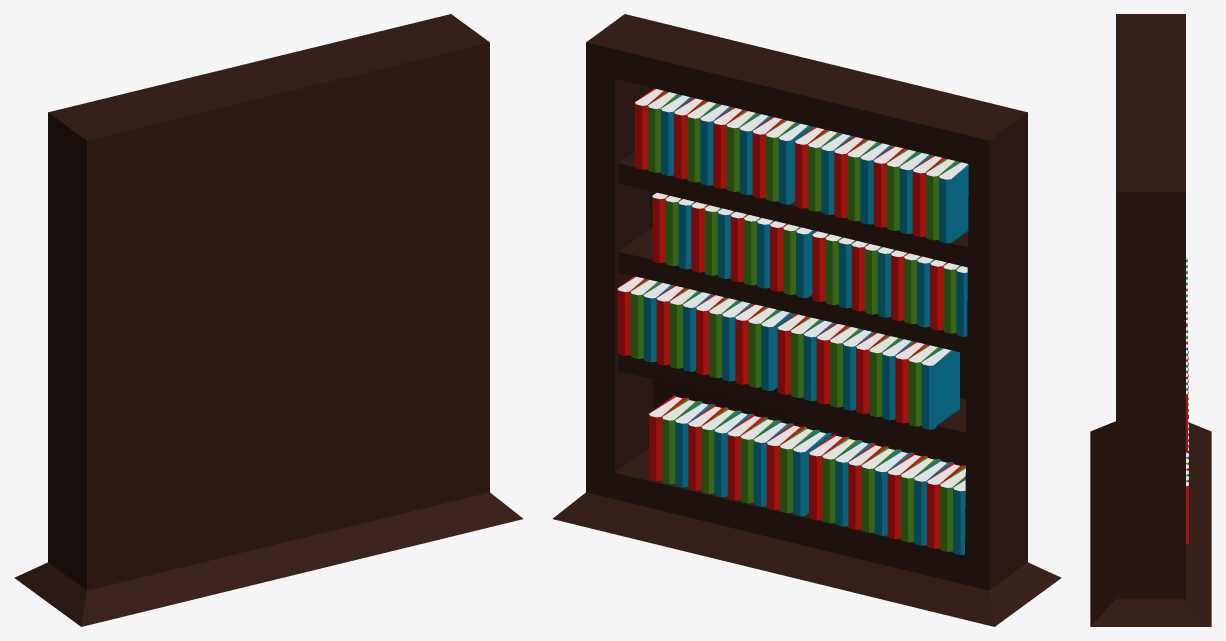
File: bookshelf.obj
3 renders of one model, left to right at view 1: azimuth 30°, elevation 25°; view 2: azimuth 150°, elevation 25°; view 3: azimuth 270°, elevation 25°, orthographic. The views are drawn at different scales.
Parts seen in each view (by area): view 1: group1295511530; view 2: group1295511530, group568524671, group886227347, group1660160457, group861598260, group362314774, group584662381, group488812185, group2010286517, group7480704, group786323976, group751422384 (+85 smaller); view 3: group1295511530.
Boxes of the visible parts, x1=… form: group1295511530: x1=14, y1=14, x2=523, y2=626; group1295511530: x1=552, y1=14, x2=1061, y2=626; group568524671: x1=921, y1=348, x2=959, y2=429; group886227347: x1=939, y1=162, x2=968, y2=243; group1660160457: x1=793, y1=430, x2=831, y2=516; group861598260: x1=778, y1=123, x2=813, y2=204; group362314774: x1=761, y1=310, x2=795, y2=390; group584662381: x1=753, y1=420, x2=792, y2=506; group488812185: x1=848, y1=443, x2=886, y2=529; group2010286517: x1=740, y1=417, x2=779, y2=503; group7480704: x1=688, y1=404, x2=726, y2=490; group786323976: x1=675, y1=401, x2=713, y2=487; group751422384: x1=766, y1=423, x2=805, y2=509; group1295511530: x1=1090, y1=14, x2=1211, y2=626.
Bounding box in the file's own units: 1.69 × 1.72 × 0.4444.
